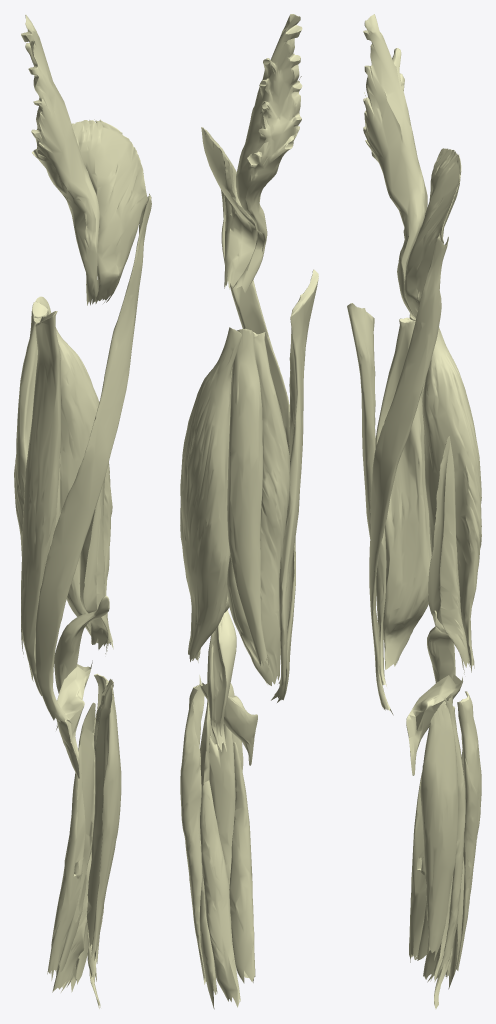
File: source-muscle-remainders.glb
The picture shows the model from 3 angles, left to right: view 1: azimuth 30°, elevation 25°; view 2: azimuth 150°, elevation 25°; view 3: azimuth 330°, elevation 25°; orthographic projection. The views are drawn at different scales.
Parts seen in each view (by area): view 1: sartorius, gracilis, visual-iliacus, visual-psoas-major, practical-biceps-femoris-long-head, tibialis-anterior, flexor-digitorum-longus, semimembranosus, practical-biceps-femoris-short-head, tibialis-posterior, popliteus, plantaris (+4 smaller); view 2: practical-biceps-femoris-long-head, semitendinosus, semimembranosus, visual-psoas-major, gracilis, flexor-hallucis-longus, flexor-digitorum-longus, visual-fibularis-longus, visual-iliacus, sartorius, plantaris, tibialis-posterior (+3 smaller); view 3: semimembranosus, practical-biceps-femoris-long-head, visual-psoas-major, sartorius, tibialis-anterior, practical-biceps-femoris-short-head, gracilis, visual-iliacus, visual-fibularis-longus, extensor-digitorum-longus, flexor-digitorum-longus, popliteus (+4 smaller).
Boxes of the visible parts, x1=… form: sartorius: x1=35, y1=193, x2=151, y2=723; gracilis: x1=21, y1=311, x2=60, y2=695; visual-iliacus: x1=71, y1=119, x2=147, y2=303; visual-psoas-major: x1=21, y1=14, x2=99, y2=305; practical-biceps-femoris-long-head: x1=35, y1=296, x2=113, y2=649; tibialis-anterior: x1=86, y1=685, x2=121, y2=960; flexor-digitorum-longus: x1=47, y1=744, x2=85, y2=980; semimembranosus: x1=14, y1=313, x2=60, y2=681; practical-biceps-femoris-short-head: x1=79, y1=478, x2=108, y2=653; tibialis-posterior: x1=58, y1=702, x2=95, y2=973; popliteus: x1=56, y1=660, x2=92, y2=778; plantaris: x1=54, y1=596, x2=109, y2=730; practical-biceps-femoris-long-head: x1=180, y1=327, x2=241, y2=661; semitendinosus: x1=227, y1=328, x2=269, y2=669; semimembranosus: x1=227, y1=332, x2=290, y2=685; visual-psoas-major: x1=231, y1=14, x2=302, y2=292; gracilis: x1=278, y1=269, x2=318, y2=687; flexor-hallucis-longus: x1=200, y1=780, x2=240, y2=1007; flexor-digitorum-longus: x1=229, y1=742, x2=255, y2=983; visual-fibularis-longus: x1=180, y1=684, x2=206, y2=984; visual-iliacus: x1=201, y1=127, x2=256, y2=289; sartorius: x1=221, y1=190, x2=295, y2=702; plantaris: x1=207, y1=610, x2=236, y2=751; tibialis-posterior: x1=209, y1=723, x2=235, y2=893; semimembranosus: x1=375, y1=317, x2=431, y2=669; practical-biceps-femoris-long-head: x1=422, y1=327, x2=481, y2=672; visual-psoas-major: x1=363, y1=14, x2=427, y2=319; sartorius: x1=369, y1=233, x2=448, y2=715; tibialis-anterior: x1=420, y1=701, x2=458, y2=960; practical-biceps-femoris-short-head: x1=428, y1=436, x2=469, y2=674; gracilis: x1=347, y1=303, x2=386, y2=686; visual-iliacus: x1=404, y1=148, x2=461, y2=318; visual-fibularis-longus: x1=456, y1=691, x2=481, y2=970; extensor-digitorum-longus: x1=441, y1=696, x2=465, y2=970; flexor-digitorum-longus: x1=409, y1=765, x2=426, y2=962; popliteus: x1=406, y1=674, x2=462, y2=775.
Bounding box in the file's own units: 0.2006 × 1.77 × 0.1989.
